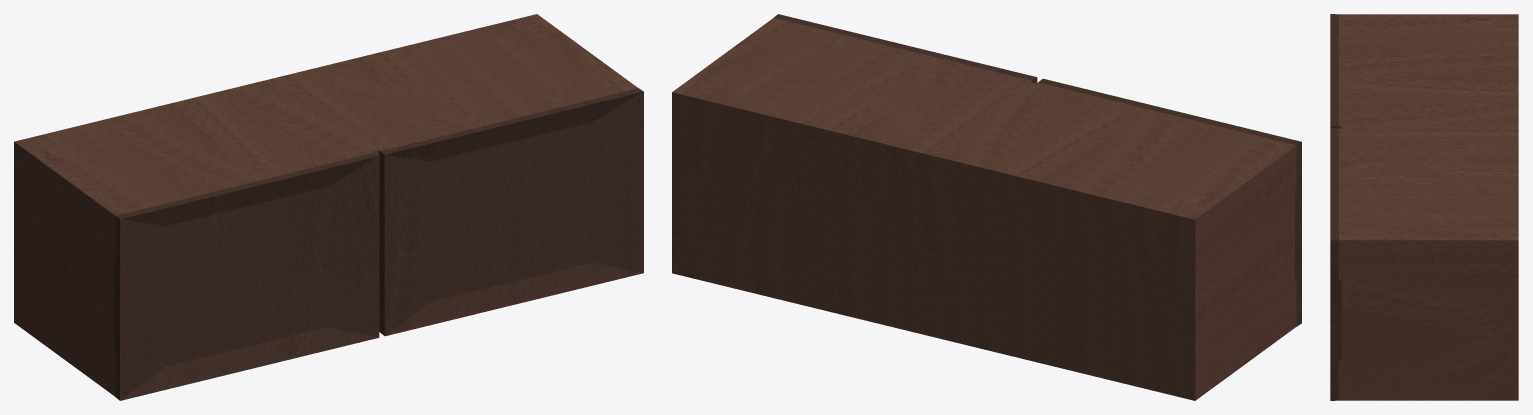
Rendered from _finalCabinet.fbx.
3 renders of one model, left to right at view 1: azimuth 30°, elevation 25°; view 2: azimuth 150°, elevation 25°; view 3: azimuth 270°, elevation 25°, orthographic. The views are drawn at different scales.
Visible parts, largest first — view 1: cabinet; view 2: cabinet; view 3: cabinet.
Part boxes in pixels (<box>): cabinet: <box>14,14,643,400</box>; cabinet: <box>672,14,1301,400</box>; cabinet: <box>1330,14,1518,400</box>.
Size of the model in its own units: 605 by 201 by 213.
1 material, 1 textured.
